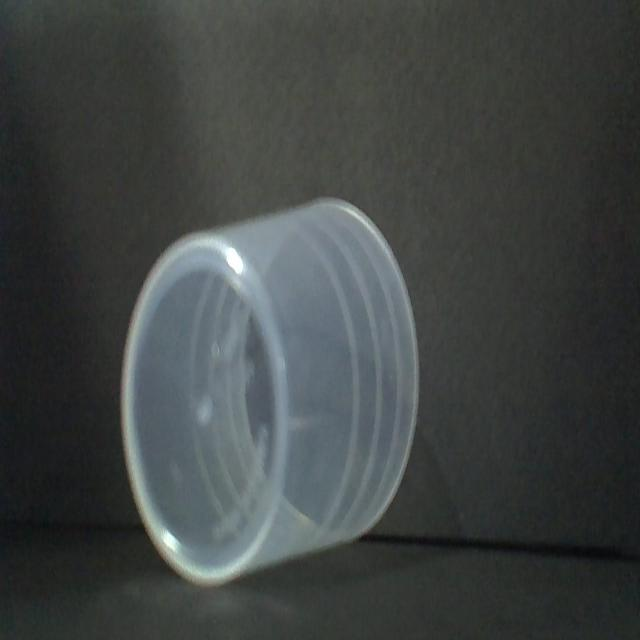cup: (116, 192, 423, 600)
